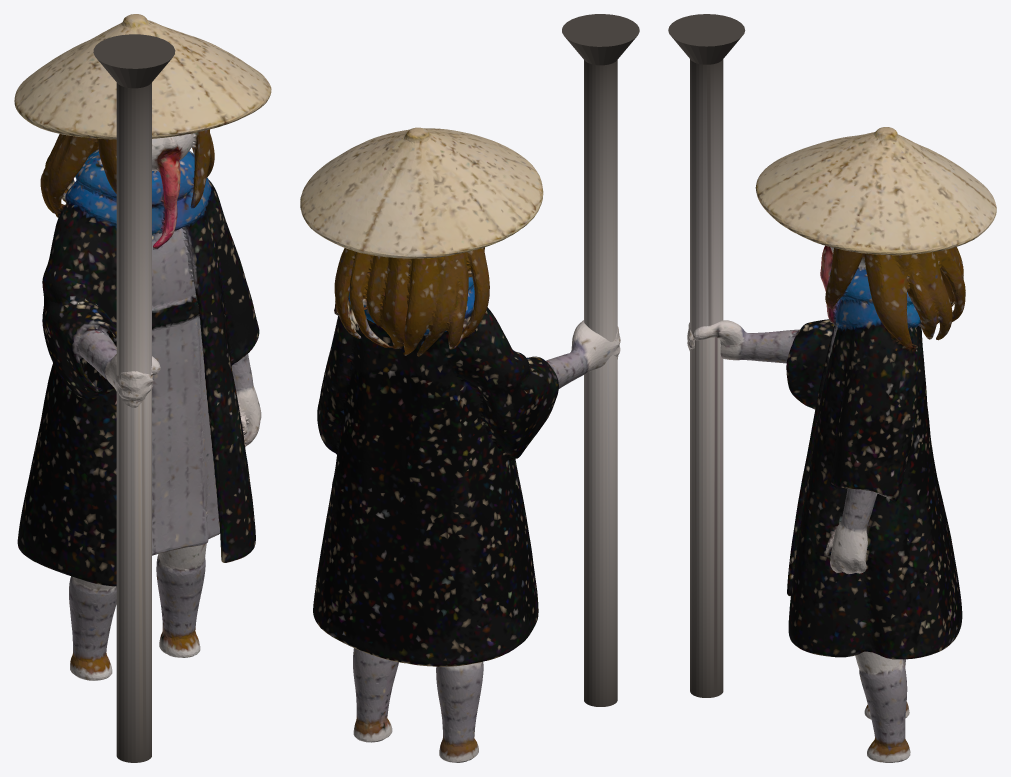
File: figurine_ai_lifelike.glb
3 renders of one model, left to right at view 1: azimuth 30°, elevation 25°; view 2: azimuth 150°, elevation 25°; view 3: azimuth 270°, elevation 25°, orthographic. The views are drawn at different scales.
Visible parts, largest first — view 1: world; view 2: world; view 3: world.
Part boxes in pixels (x1,y1,x2,y2): world: [14, 14, 271, 762]; world: [300, 14, 639, 762]; world: [668, 14, 996, 762].
Bounding box in the file's own units: 0.7908 × 2.18 × 0.9808.
